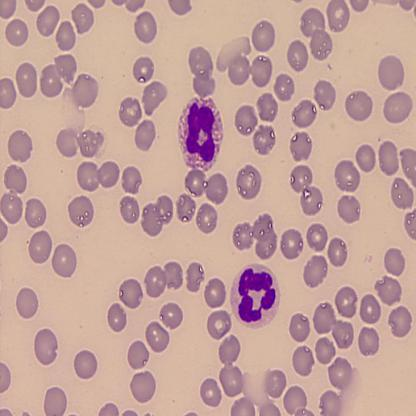Eosinophil: (178, 95, 224, 172)
